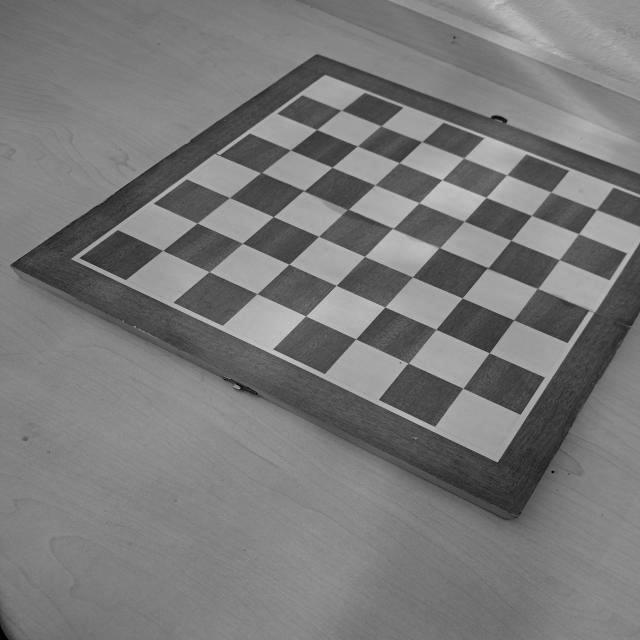chess-table-corners: (64, 247, 99, 270), (476, 444, 510, 466), (313, 70, 341, 86)
